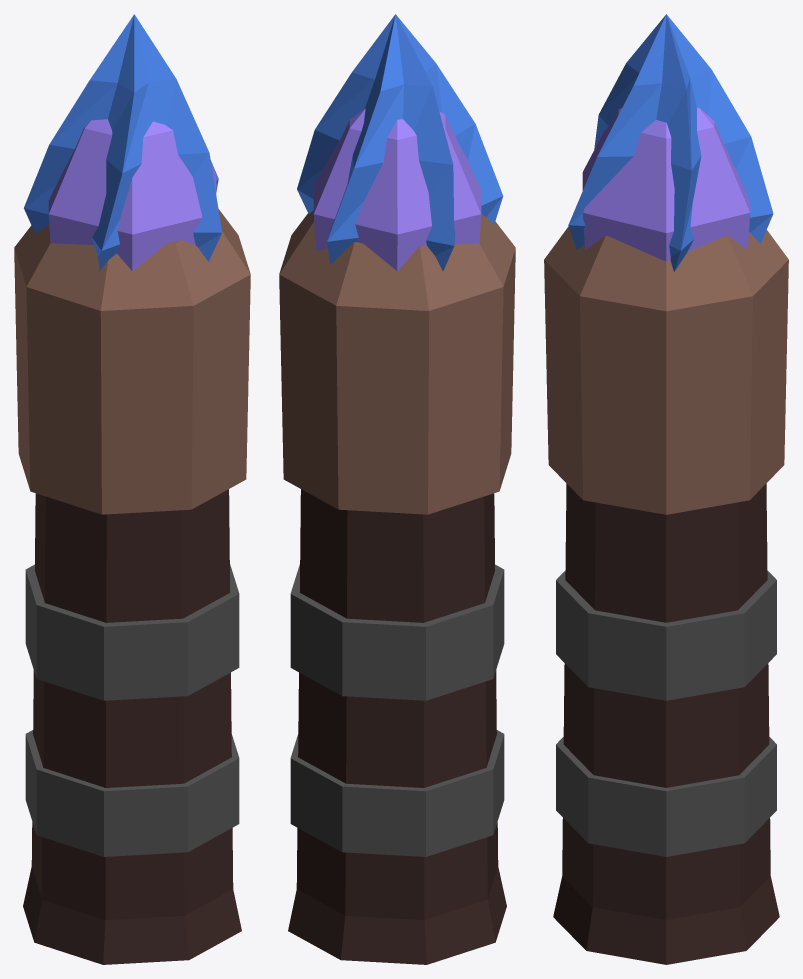
The model's file is darktorch.obj.
3 views of the same model, side by side, from view 1: azimuth 30°, elevation 25°; view 2: azimuth 150°, elevation 25°; view 3: azimuth 270°, elevation 25° (orthographic).
Parts seen in each view (by area): view 1: darktorch_0, darktorch_3, darktorch_2, darktorch_4, darktorch_1, darktorch_5; view 2: darktorch_0, darktorch_3, darktorch_4, darktorch_2, darktorch_1, darktorch_5; view 3: darktorch_0, darktorch_3, darktorch_4, darktorch_2, darktorch_1, darktorch_5.
Boxes of the visible parts, left/top/right/bottom form: darktorch_0: left=23, top=489, right=241, bottom=964; darktorch_3: left=14, top=209, right=250, bottom=514; darktorch_2: left=25, top=564, right=239, bottom=700; darktorch_4: left=24, top=14, right=222, bottom=271; darktorch_1: left=25, top=730, right=239, bottom=856; darktorch_5: left=48, top=119, right=216, bottom=271; darktorch_0: left=288, top=489, right=506, bottom=964; darktorch_3: left=279, top=210, right=515, bottom=514; darktorch_4: left=297, top=14, right=503, bottom=271; darktorch_2: left=290, top=564, right=504, bottom=700; darktorch_1: left=290, top=730, right=504, bottom=856; darktorch_5: left=313, top=108, right=481, bottom=271; darktorch_0: left=553, top=483, right=779, bottom=964; darktorch_3: left=544, top=226, right=788, bottom=514; darktorch_4: left=568, top=14, right=773, bottom=271; darktorch_2: left=556, top=570, right=776, bottom=700; darktorch_1: left=556, top=737, right=776, bottom=856; darktorch_5: left=582, top=107, right=750, bottom=261.
Size of the model in its own units: 0.27 by 1.1 by 0.27.
